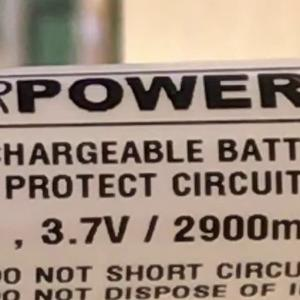3.7V: (31, 205, 140, 255)
